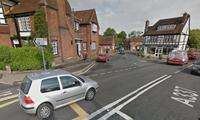car: (18, 68, 99, 117)
